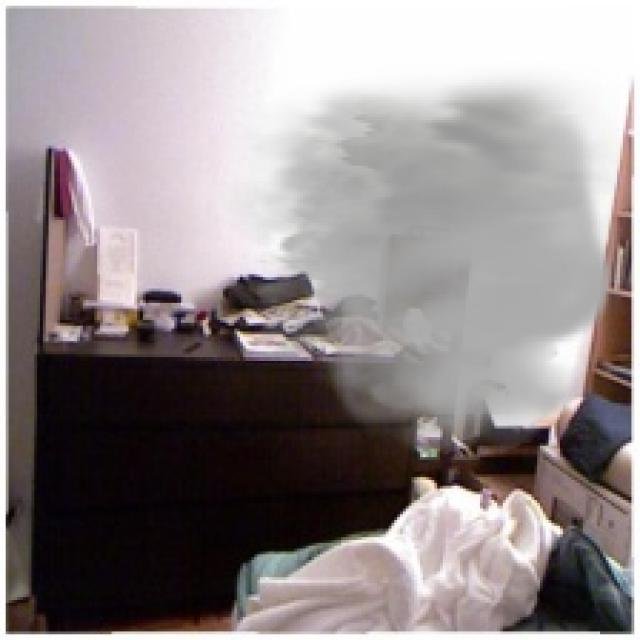smoke: (206, 63, 620, 457)
